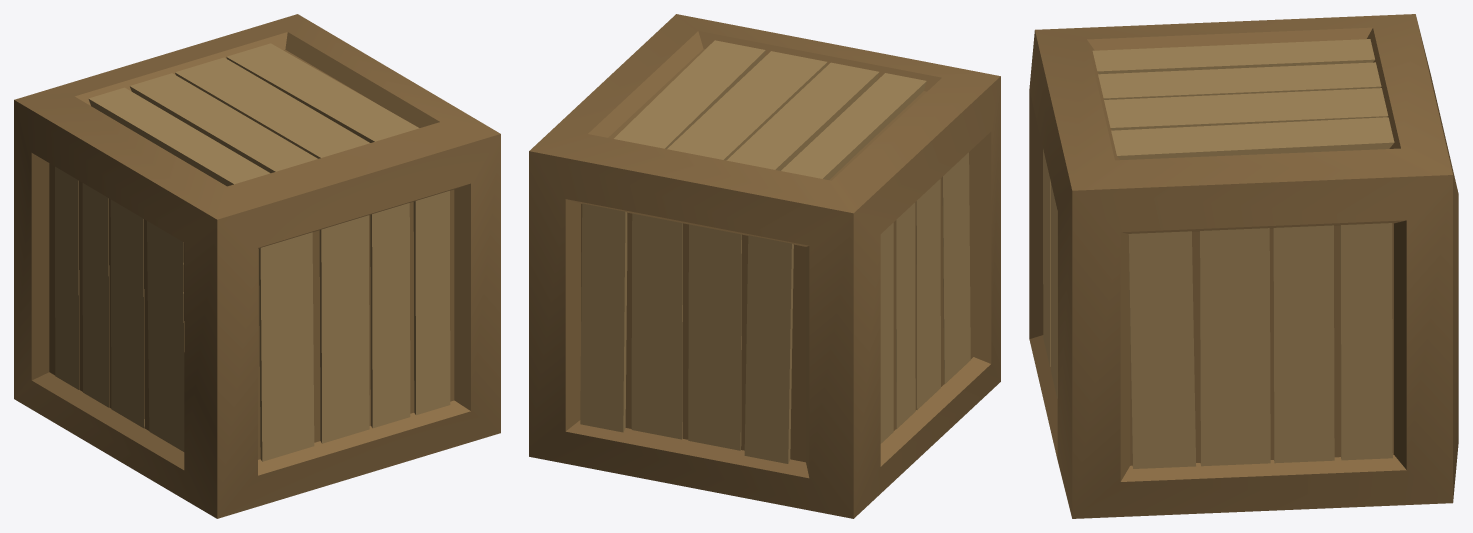
File: Crate.gltf
3 views of the same model, side by side, from view 1: azimuth 30°, elevation 25°; view 2: azimuth 150°, elevation 25°; view 3: azimuth 270°, elevation 25° (orthographic). The views are drawn at different scales.
Visible parts, largest first — view 1: Crate; view 2: Crate; view 3: Crate.
Part boxes in pixels (x1=…): Crate: x1=14, y1=14, x2=500, y2=518; Crate: x1=529, y1=14, x2=1000, y2=518; Crate: x1=1029, y1=14, x2=1458, y2=518.
Size of the model in its own units: 0.0975 by 0.0865 by 0.0975.
